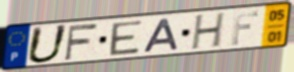A: (142, 17, 181, 54)
E: (108, 19, 144, 57)
F: (63, 22, 100, 62), (229, 10, 261, 47)
H: (189, 11, 227, 52)
U: (24, 23, 71, 65)
